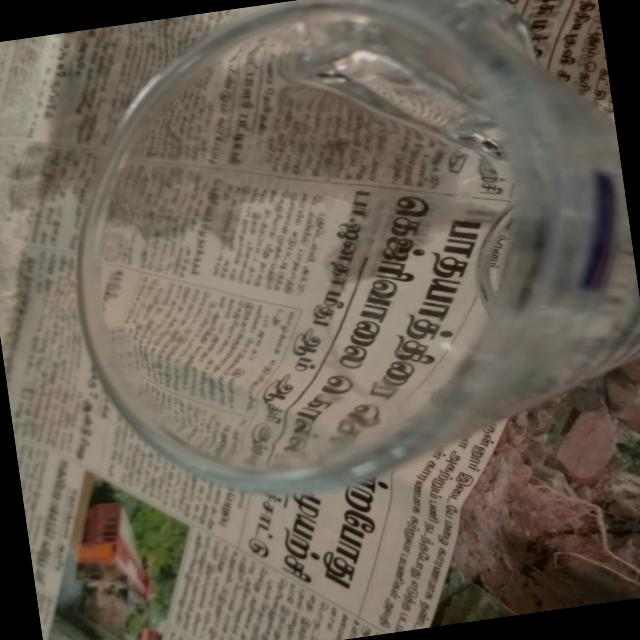glass-VX4N: (37, 0, 640, 525)
